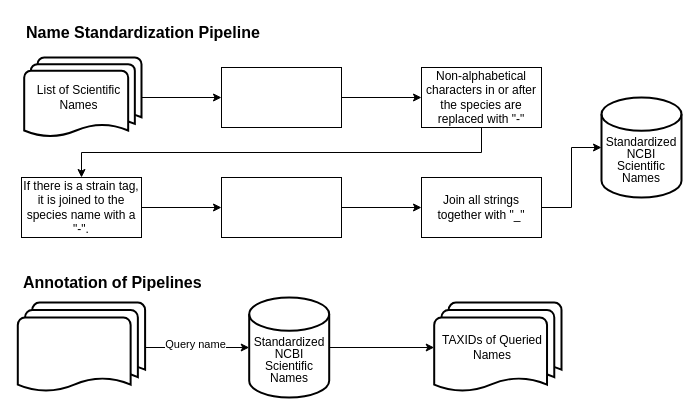
Some shapes in this 700 by 415 pixel diagram are drawn without their labels. The shapes that lost their labels are listed below. From the top down, each one's box as (x1, y1, x2, y2) in pixels, then its label:
(220, 66, 342, 128): Split between genus and species in scientific name
(220, 176, 342, 238): Remove any [ or ] characters in the genus name
(16, 301, 146, 393): Standardized Names from Pipelines (Species or Genus)
